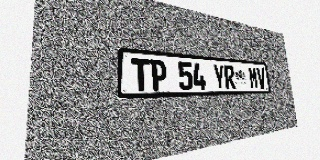4: (192, 62, 206, 90)
5: (178, 61, 193, 90)
M: (248, 67, 259, 89)
P: (150, 59, 167, 91)
R: (224, 65, 236, 89)
T: (131, 58, 150, 91)
V: (256, 67, 267, 89)
Y: (213, 64, 226, 90)
